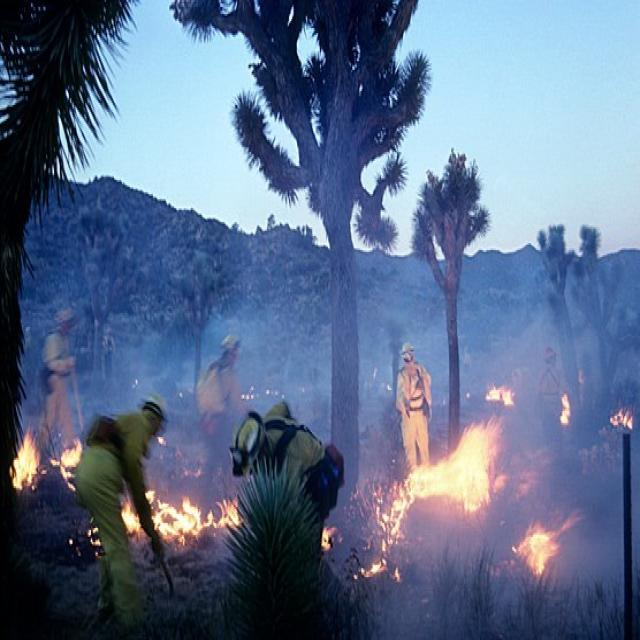Fire: (147, 493, 243, 554), (405, 448, 490, 516), (515, 516, 578, 579), (9, 435, 38, 488)
